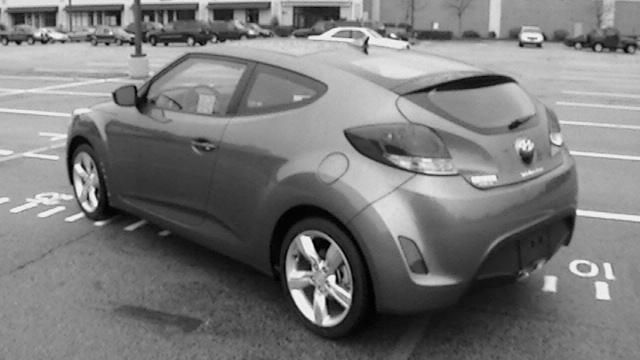car: (62, 32, 586, 343)
